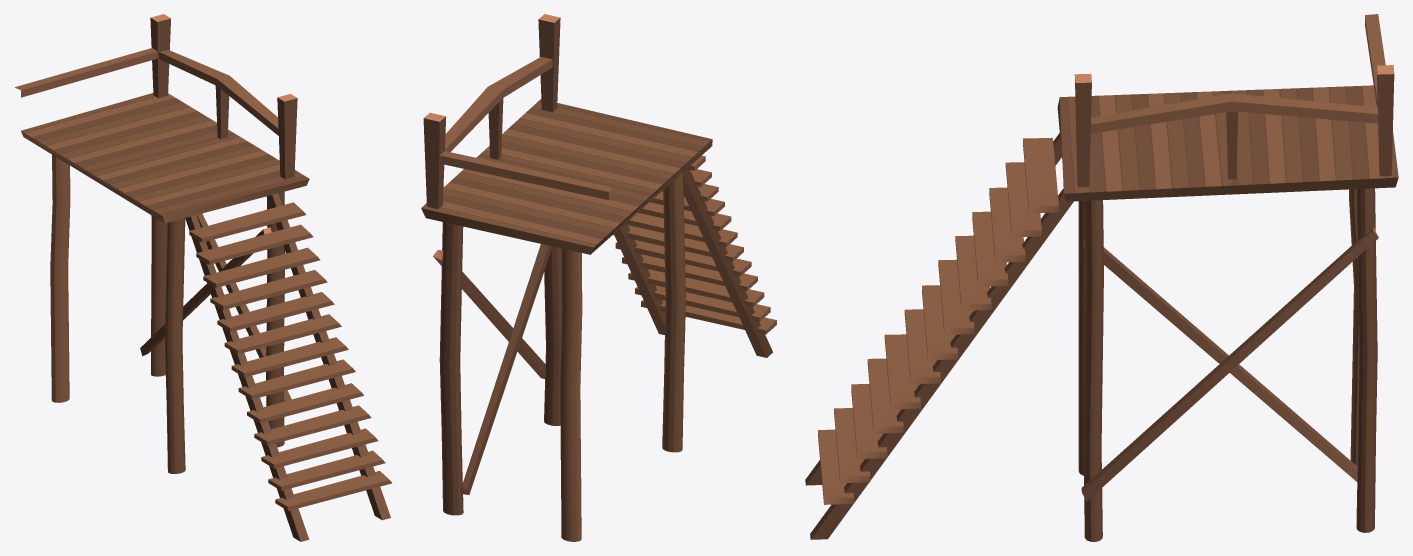
The model's file is Stairs by Pixel - T4H9ah1qSC.glb.
3 views of the same model, side by side, from view 1: azimuth 30°, elevation 25°; view 2: azimuth 150°, elevation 25°; view 3: azimuth 270°, elevation 25° (orthographic). The views are drawn at different scales.
Visible parts, largest first — view 1: House-stair-middleSize; view 2: House-stair-middleSize; view 3: House-stair-middleSize.
Boxes of the visible parts, bbox=[...] form: House-stair-middleSize: bbox=[15, 14, 391, 541]; House-stair-middleSize: bbox=[421, 14, 776, 541]; House-stair-middleSize: bbox=[805, 14, 1398, 541].
Size of the model in its own units: 2.4 by 4.51 by 5.23.
1 material, 1 textured.
